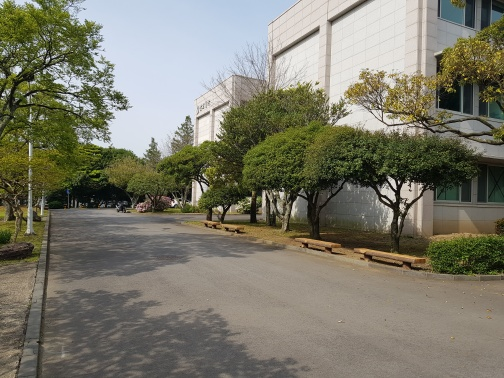College of Nursing: (265, 7, 489, 234), (186, 61, 256, 219)
